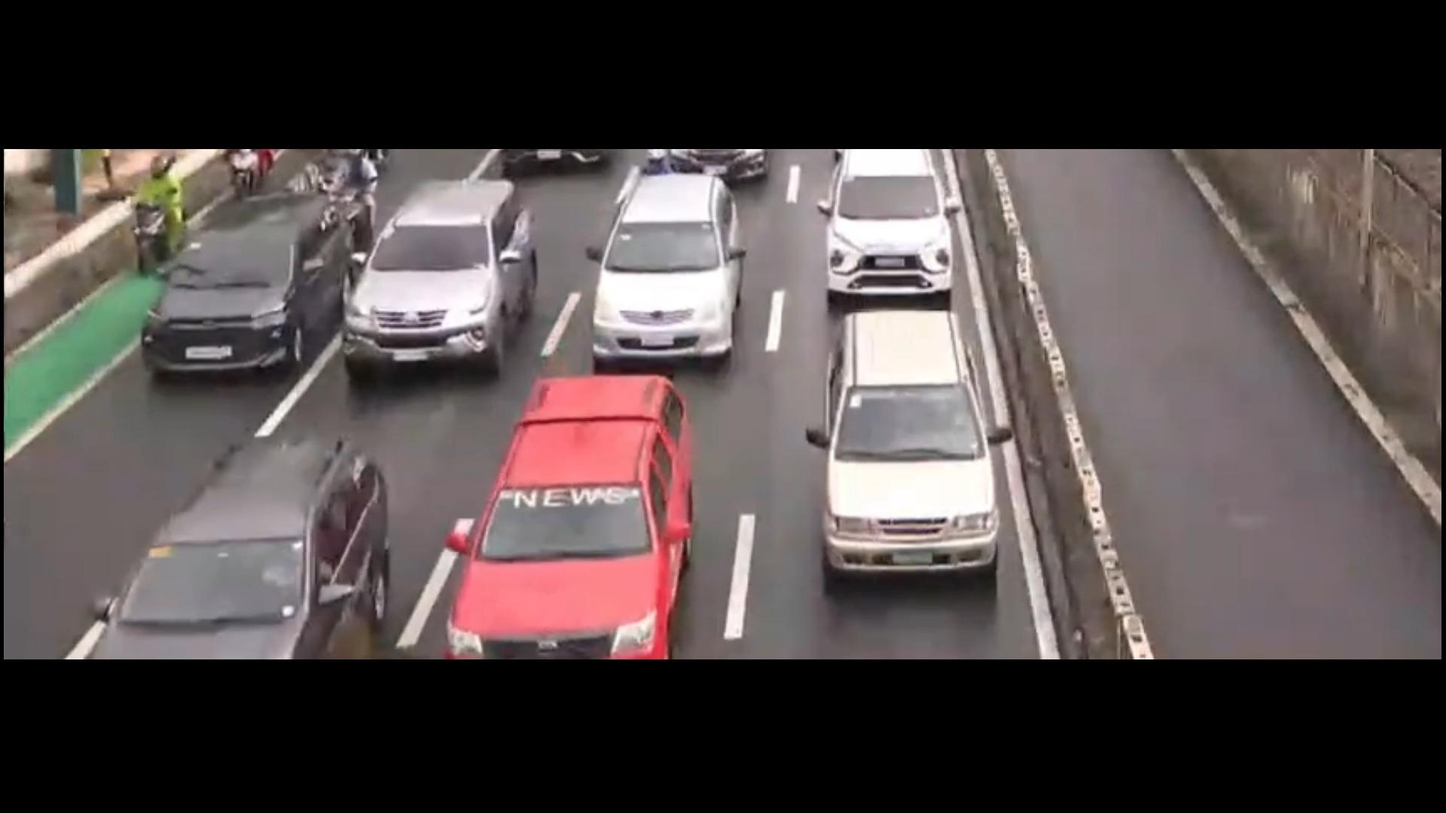Motorcycle: (126, 155, 200, 265), (311, 140, 388, 230), (227, 145, 283, 194)
Truck: (46, 424, 403, 657), (448, 367, 708, 661), (777, 300, 1036, 587), (323, 170, 543, 386), (140, 202, 349, 386), (576, 175, 744, 375), (816, 143, 966, 316)
